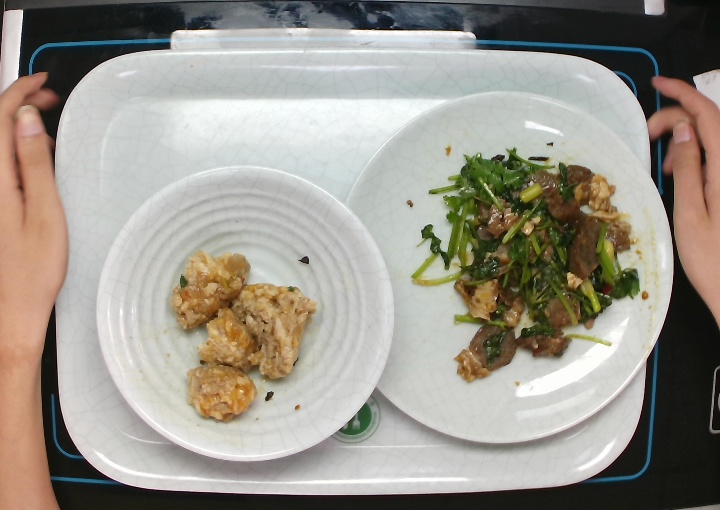JYsf-Da_Yuan_Pan: (339, 87, 678, 448)
JYsf-Xiao_Tang_Wan: (91, 162, 398, 464)
